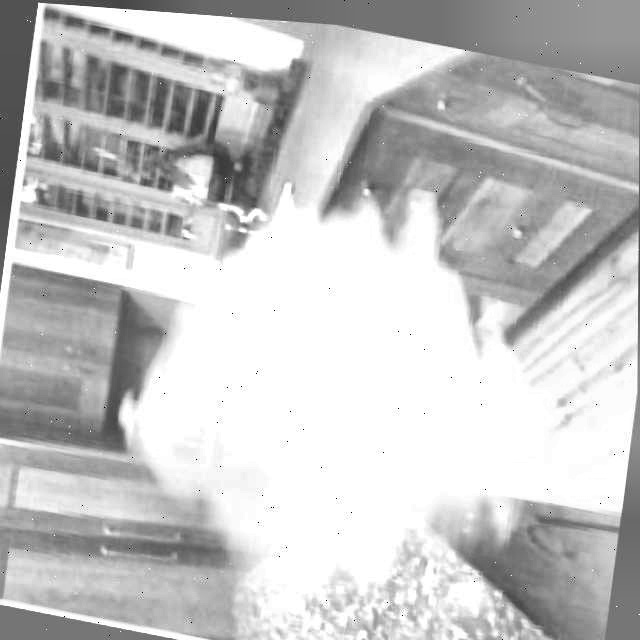Smoke: (86, 136, 585, 640)
